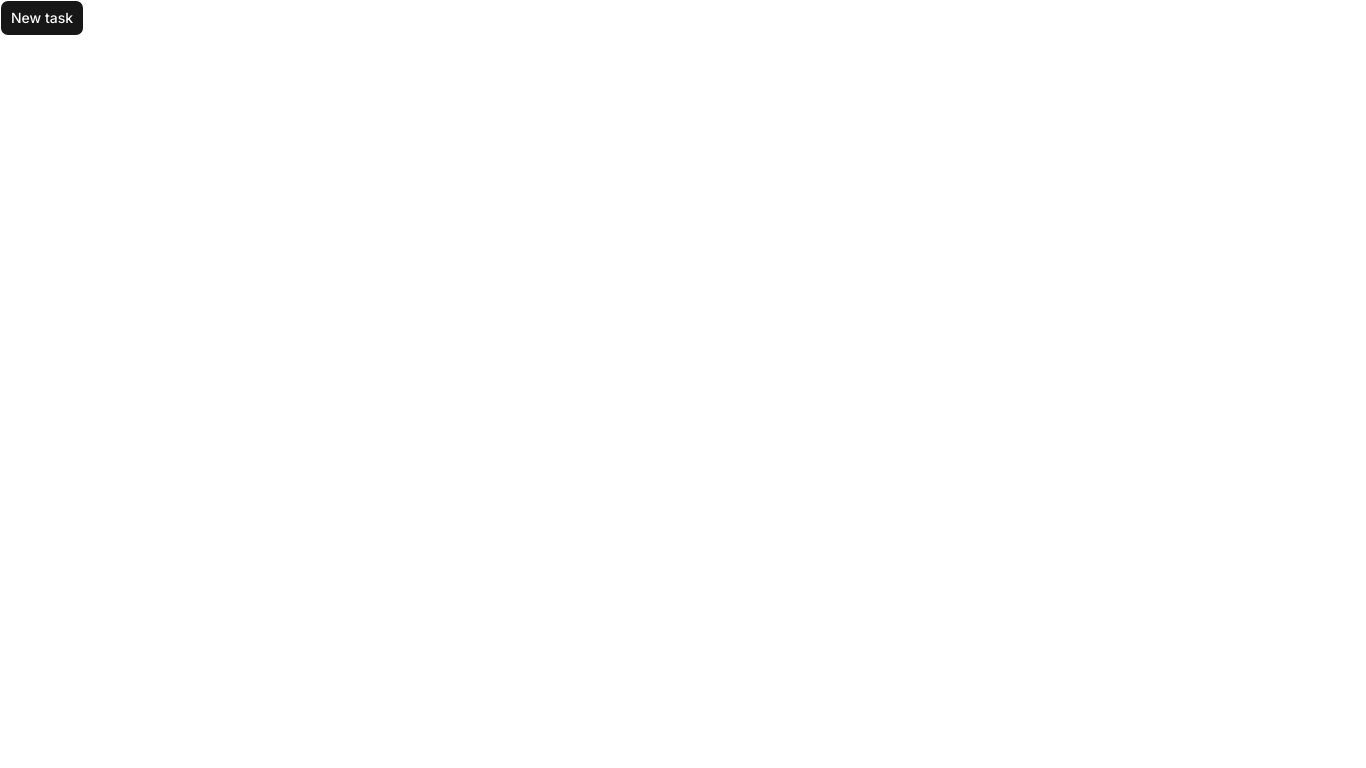
New task › opens one empty text box each time
Later steps or results of the test are not shown.
What coordinates should you click on to do the following:
click the button "New task"
I would click on:
 (42, 18)
Its box is [0,0,84,36].
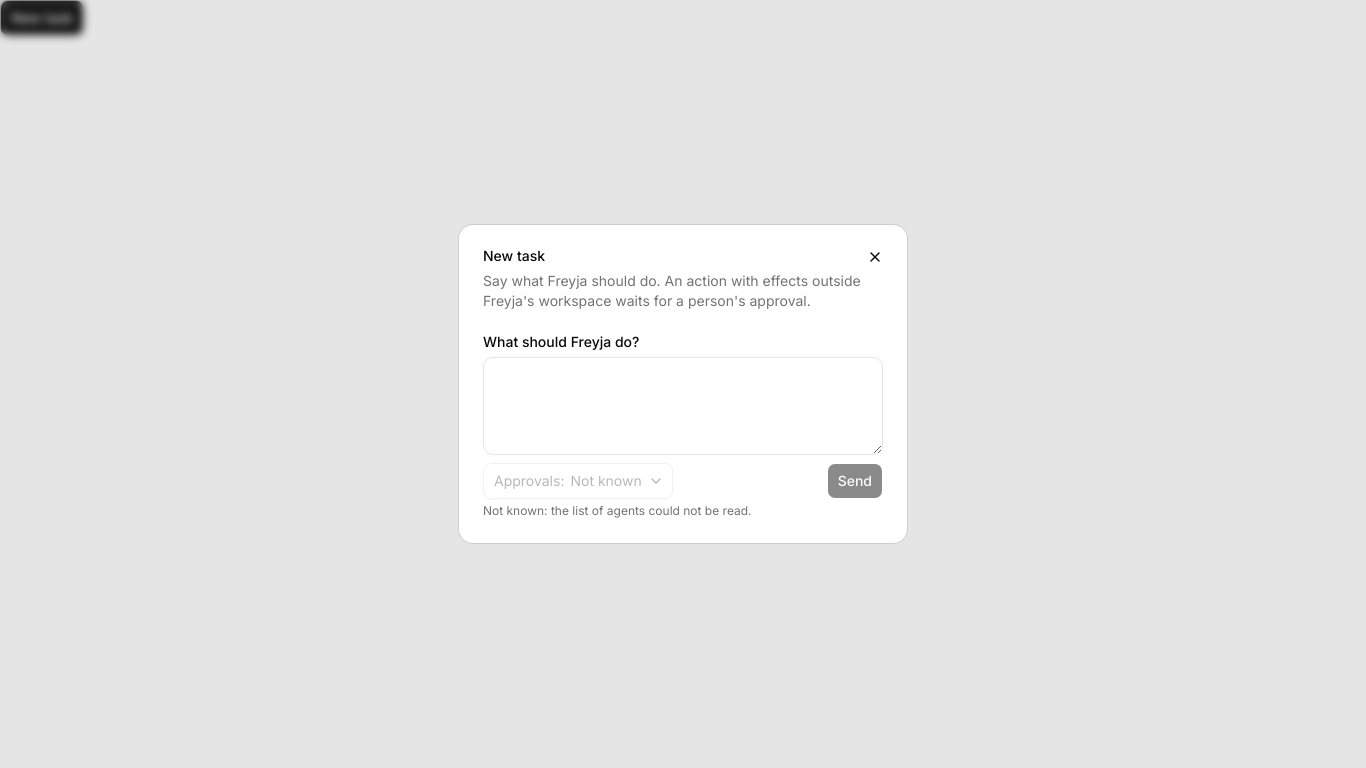
Expected: the number of text boxes is 1, [483,357,883,455]
